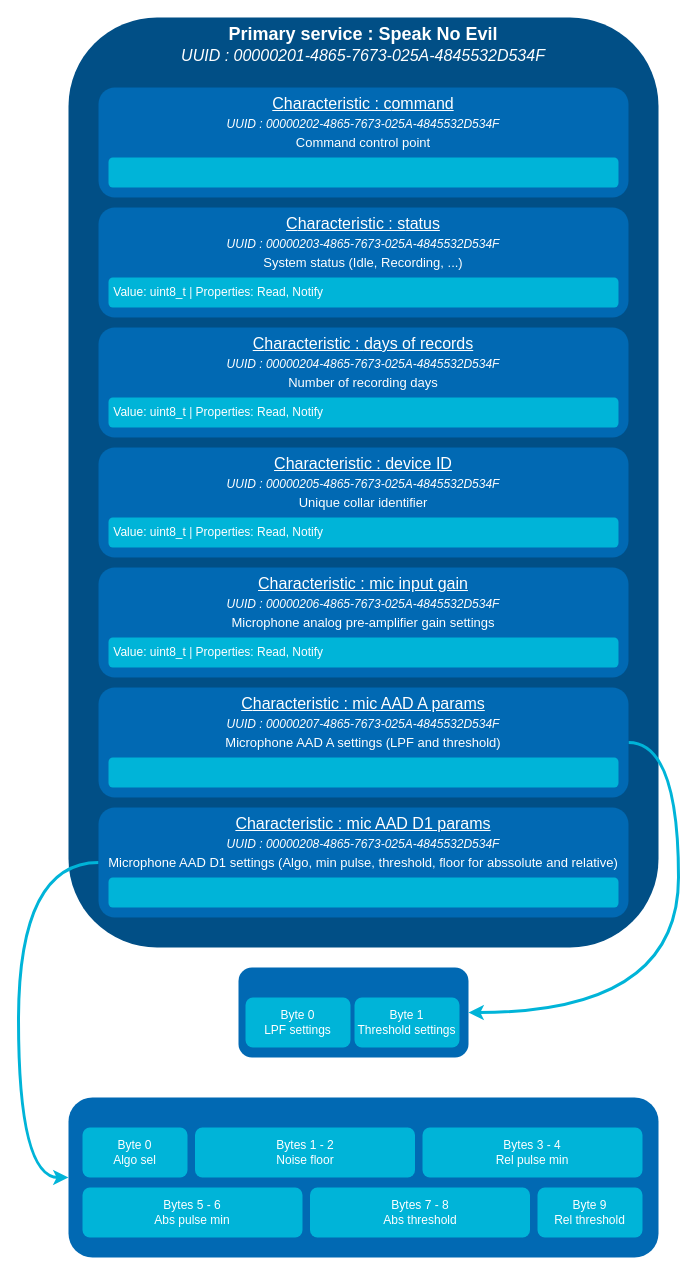
Image size: 697x1274. Some labels were removed from this diagram. The box of each missing label's shape, as (x1, y1, x2, y2) in pixels:
Mic AAD A characteristic (2 Bytes): (238, 967, 468, 1057)
Mic AAD D1 characteristic (10 Bytes): (68, 1097, 658, 1257)
Value: [N bytes] | Properties: Write, Write w/o Resp: (108, 157, 618, 187)
Value: uint16_t | Properties: Read, Notify: (108, 757, 618, 787)
Value: uint8_t[10] | Properties: Read, Notify: (108, 877, 618, 907)
